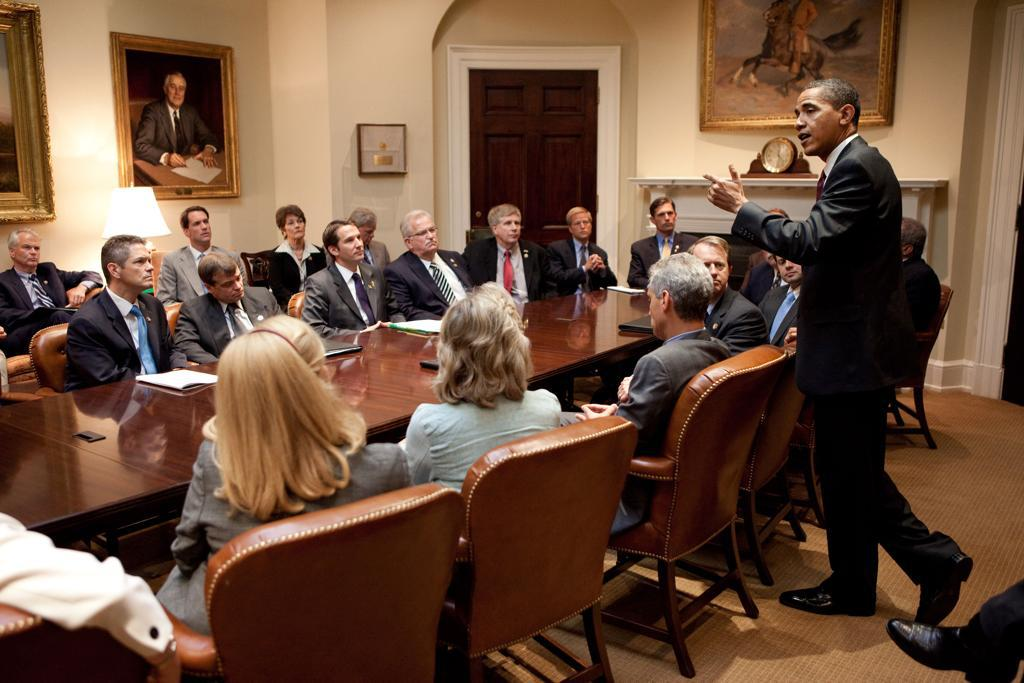face: (794, 90, 839, 156), (648, 286, 678, 336), (696, 247, 729, 292), (121, 245, 154, 288), (217, 271, 245, 303), (412, 219, 439, 251), (339, 227, 364, 261), (16, 234, 41, 267), (776, 251, 802, 282), (499, 215, 522, 243), (189, 212, 211, 241), (655, 205, 676, 232), (571, 213, 593, 237), (764, 237, 782, 265), (168, 78, 186, 105), (286, 215, 306, 238), (357, 224, 375, 246)
